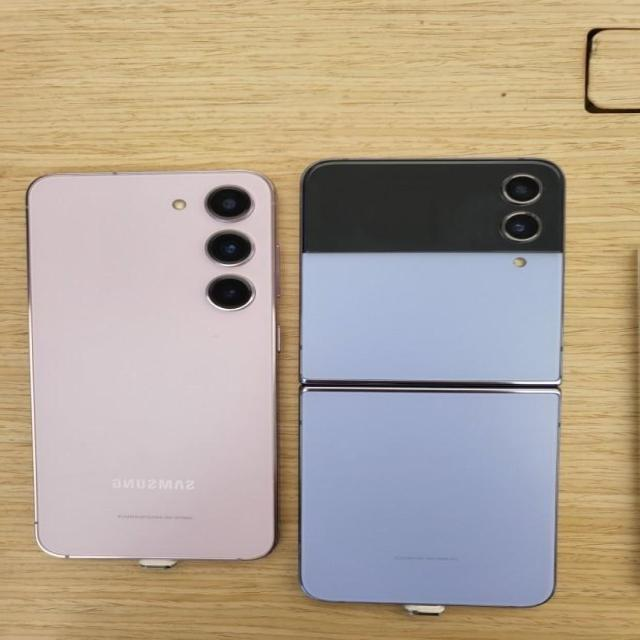mobile: (298, 155, 567, 606), (34, 171, 276, 560)
